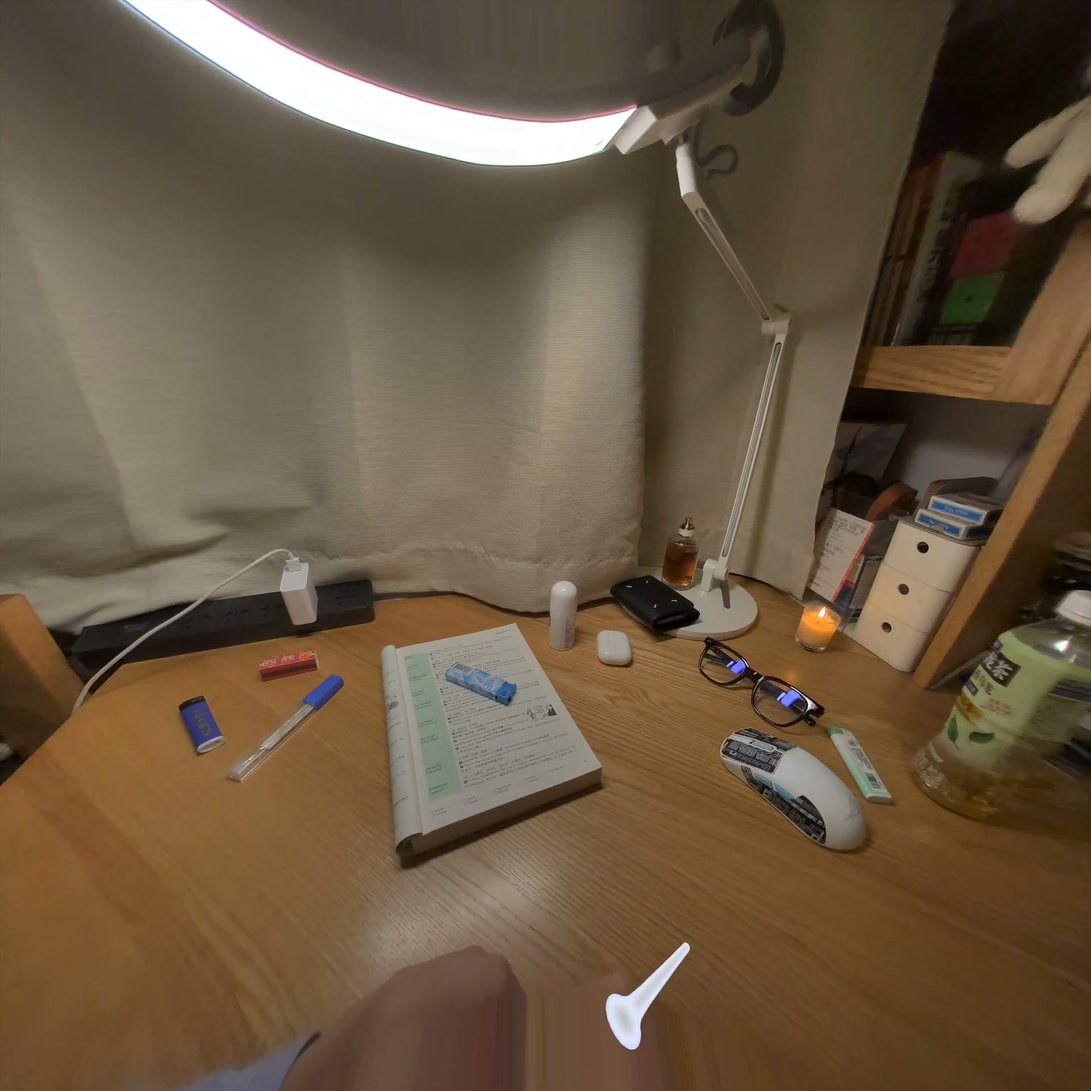lighter: (445, 663, 516, 705)
